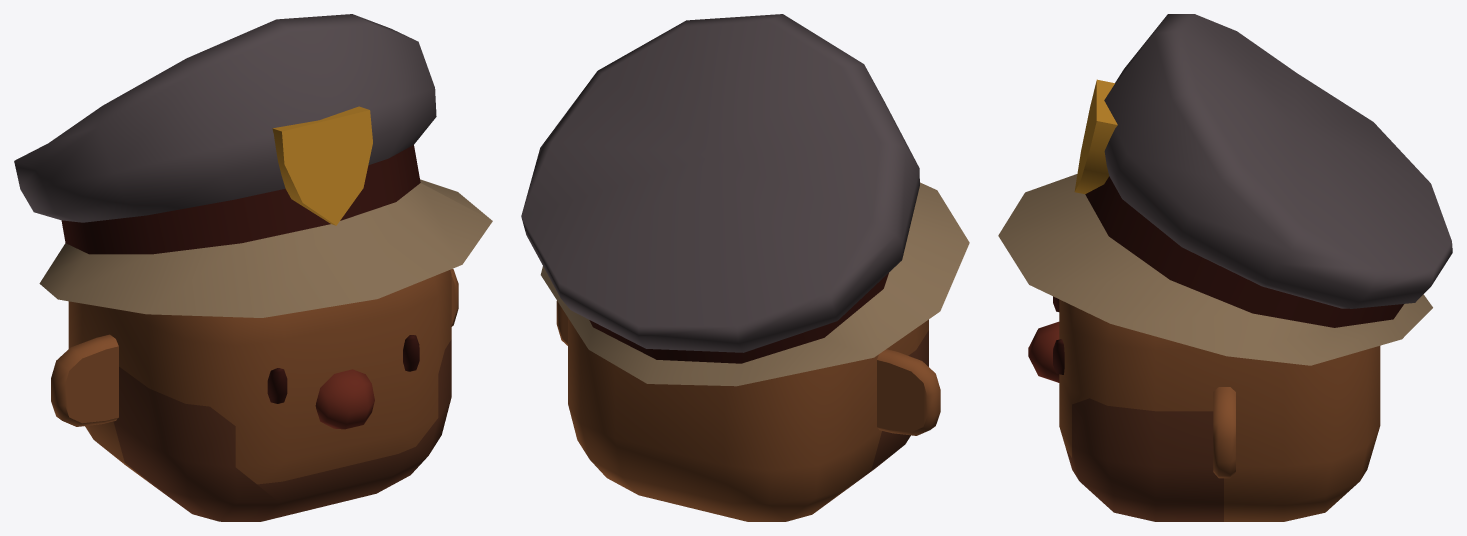
File: NPC_PoliceMan3_Square_Head.fbx
3 views of the same model, side by side, from view 1: azimuth 30°, elevation 25°; view 2: azimuth 150°, elevation 25°; view 3: azimuth 270°, elevation 25° (orthographic). The views are drawn at different scales.
Visible parts, largest first — view 1: PoliceOfficer_Square_Head; view 2: PoliceOfficer_Square_Head; view 3: PoliceOfficer_Square_Head.
Boxes of the visible parts, <box> form: PoliceOfficer_Square_Head: <box>14,14,492,521</box>; PoliceOfficer_Square_Head: <box>521,14,969,521</box>; PoliceOfficer_Square_Head: <box>998,14,1452,521</box>.
Size of the model in its own units: 3.19 by 3.56 by 3.23.
